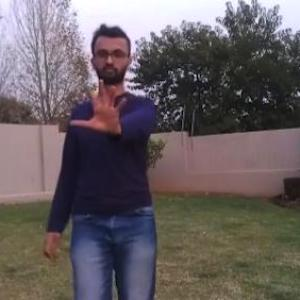follow_hand: (69, 71, 127, 133)
